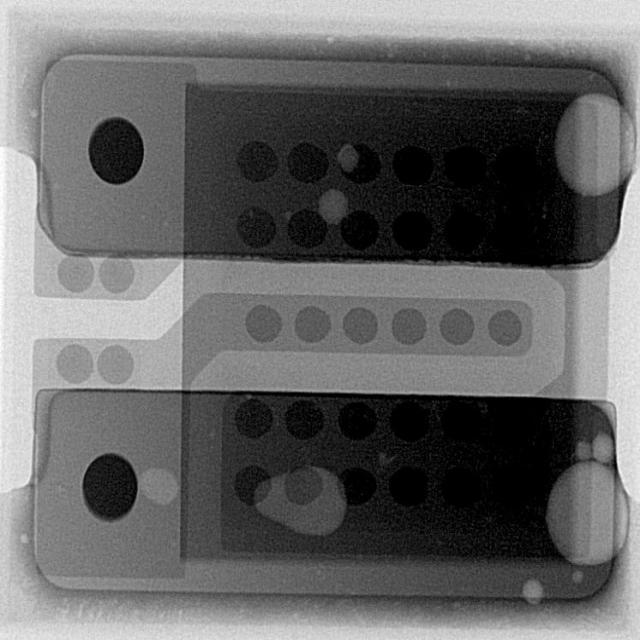chip: (30, 54, 634, 599)
void: (546, 461, 628, 567), (556, 93, 638, 196), (254, 466, 346, 535), (136, 467, 177, 505), (319, 189, 347, 225), (592, 432, 611, 464), (336, 144, 358, 171), (522, 579, 543, 603), (578, 439, 598, 459)
